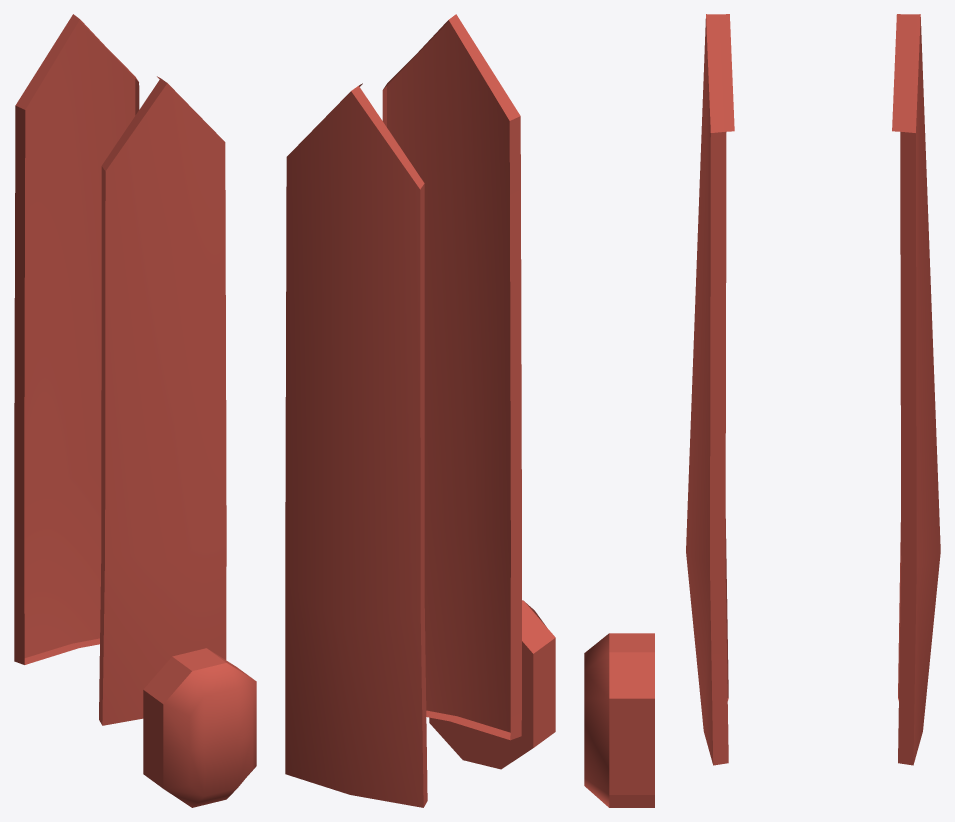
Rendered from basic_jewel.fbx.
3 views of the same model, side by side, from view 1: azimuth 30°, elevation 25°; view 2: azimuth 150°, elevation 25°; view 3: azimuth 270°, elevation 25° (orthographic). The views are drawn at different scales.
Parts seen in each view (by area): view 1: basic_jewel; view 2: basic_jewel; view 3: basic_jewel.
Boxes of the visible parts, x1,y1,x2,y2 form: basic_jewel: [14, 14, 256, 807]; basic_jewel: [285, 14, 555, 807]; basic_jewel: [584, 14, 940, 807].
Bounding box in the file's own units: 6.66 × 35.41 × 14.58.
